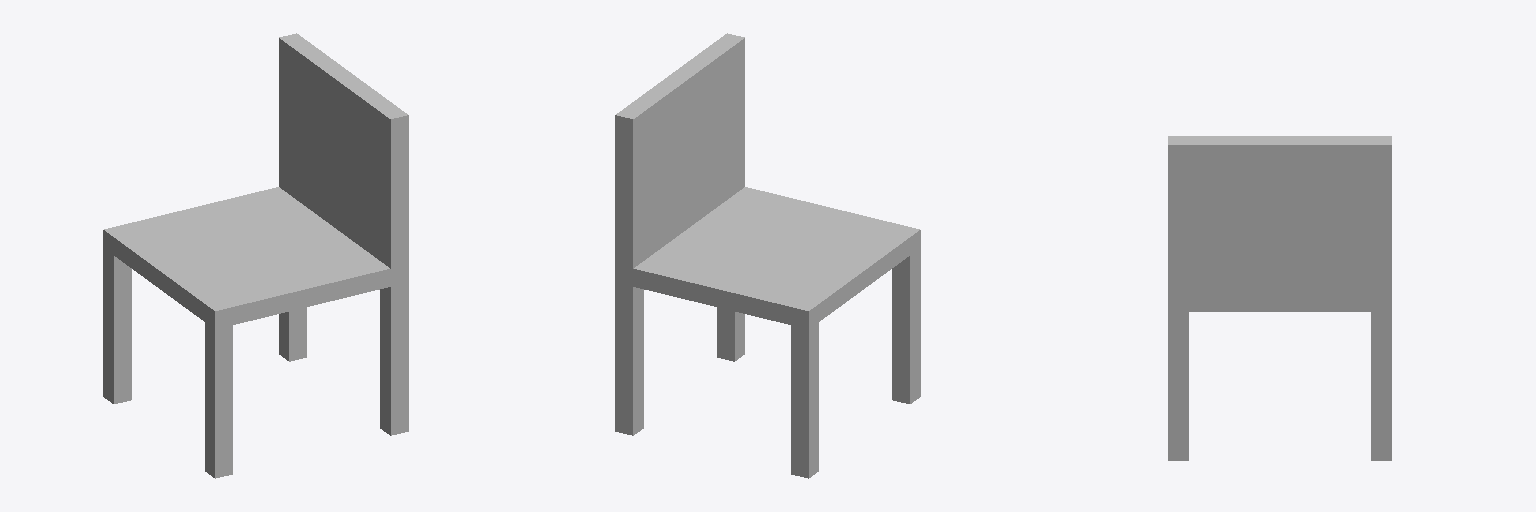
Rendered from chair.obj.
3 renders of one model, left to right at view 1: azimuth 30°, elevation 25°; view 2: azimuth 150°, elevation 25°; view 3: azimuth 270°, elevation 25°, orthographic.
Visible parts, largest first — view 1: Cube, Cube.005, Cube.002, Cube.003, Cube.001, Cube.004; view 2: Cube, Cube.005, Cube.004, Cube.003, Cube.001, Cube.002; view 3: Cube.005, Cube, Cube.002, Cube.004.
Part boxes in pixels (x1,y1,x2,y2): Cube: (103,187,408,328); Cube.005: (279,33,408,276); Cube.002: (380,274,408,435); Cube.003: (103,240,131,403); Cube.001: (205,313,232,478); Cube.004: (279,307,306,361); Cube: (615,187,920,328); Cube.005: (615,33,744,276); Cube.004: (615,275,643,435); Cube.003: (791,313,818,478); Cube.001: (892,240,920,403); Cube.002: (717,307,744,361); Cube.005: (1168,136,1391,302); Cube: (1168,294,1391,311); Cube.002: (1168,304,1188,460); Cube.004: (1371,303,1391,460).
Size of the model in its own units: 3.2 by 5 by 3.2.